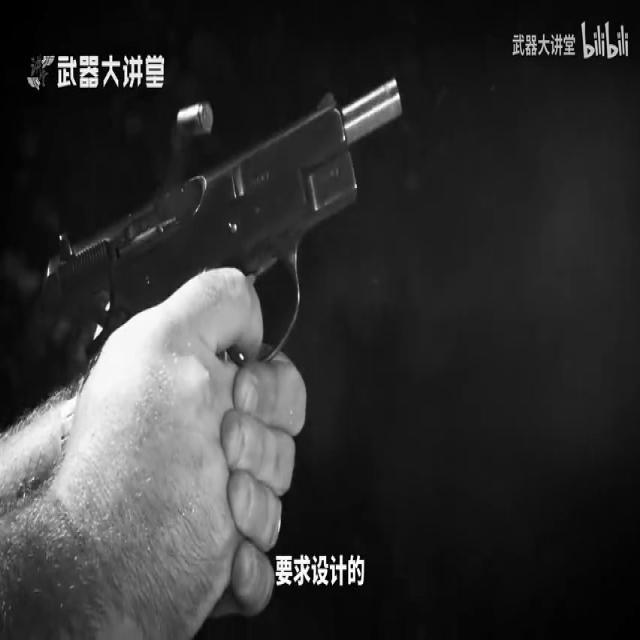Hand-Gun: (38, 52, 416, 448)
